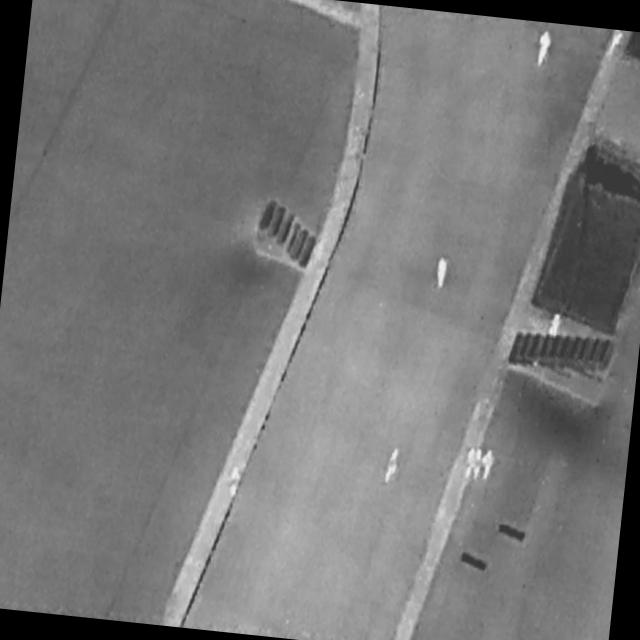person: (380, 441, 405, 488), (432, 253, 452, 292), (535, 29, 554, 70), (480, 446, 497, 481), (463, 446, 479, 478), (473, 447, 486, 482), (549, 310, 563, 337)
